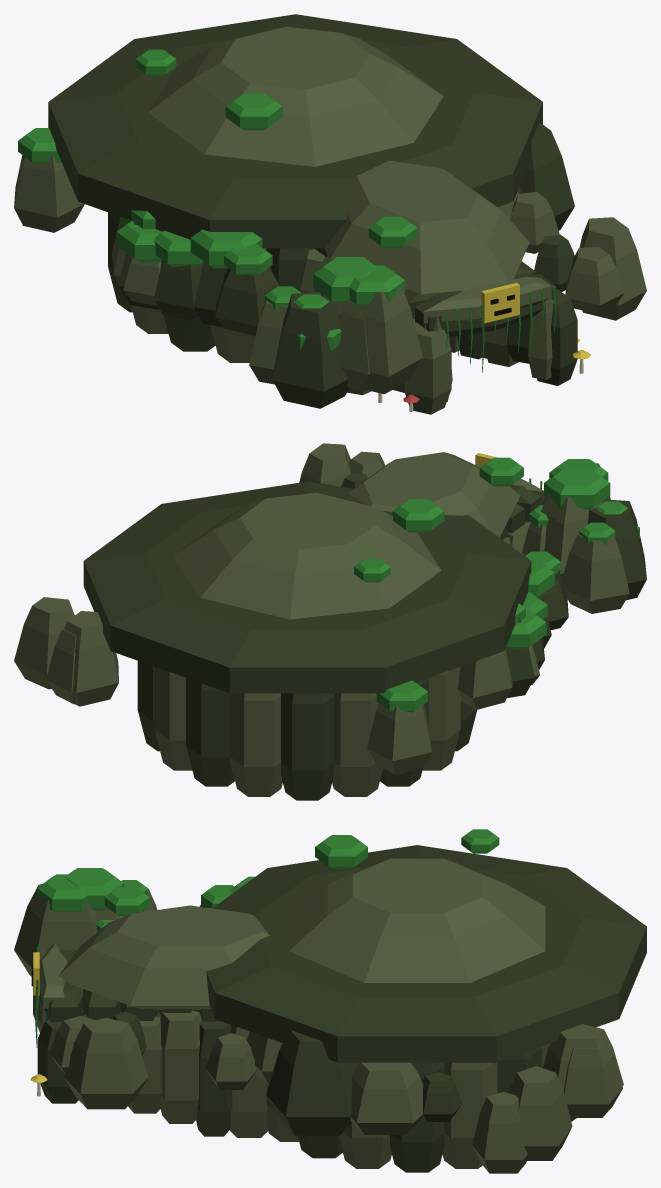
The model's file is cave_jungle.glb.
The picture shows the model from 3 angles, top to bottom: view 1: azimuth 30°, elevation 25°; view 2: azimuth 150°, elevation 25°; view 3: azimuth 270°, elevation 25°; orthographic projection. The views are drawn at different scales.
Visible parts, largest first — view 1: cave_jungle; view 2: cave_jungle; view 3: cave_jungle.
Boxes of the visible parts, <box> form: cave_jungle: <box>14,14,646,414</box>; cave_jungle: <box>14,443,646,800</box>; cave_jungle: <box>14,829,646,1173</box>.
Size of the model in its own units: 40.33 by 19.83 by 50.2.
